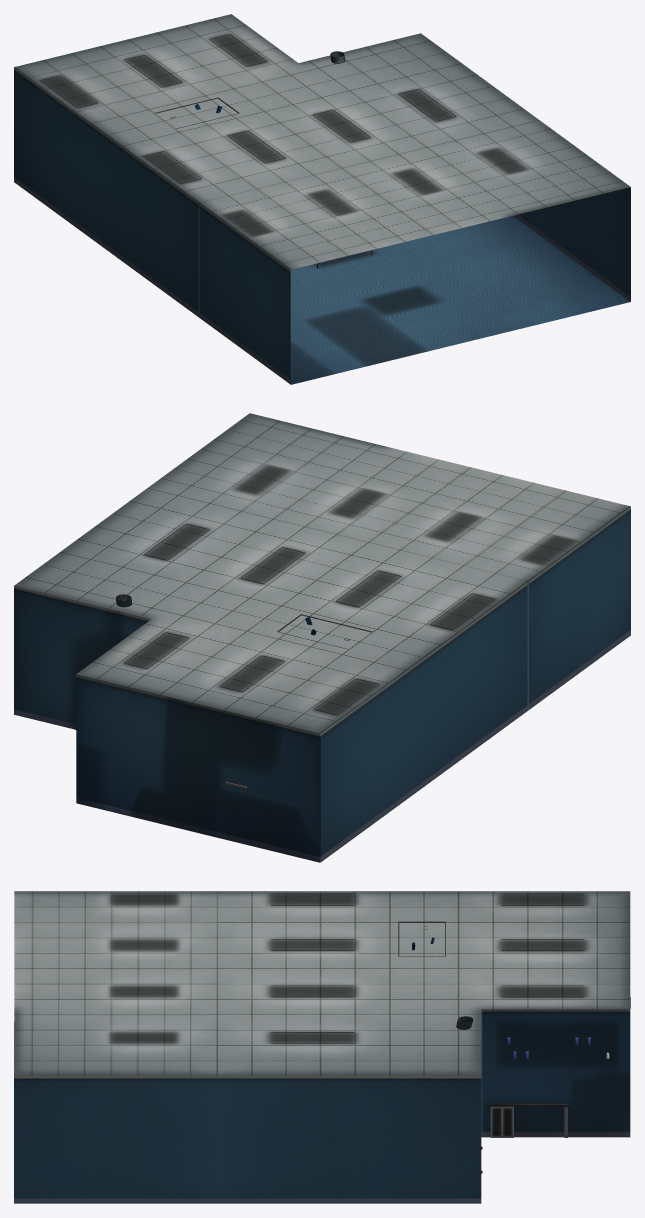
The model's file is WuZhengDiaoChaKe_01.FBX.
3 views of the same model, one above another, from view 1: azimuth 30°, elevation 25°; view 2: azimuth 150°, elevation 25°; view 3: azimuth 270°, elevation 25° (orthographic). The views are drawn at different scales.
Parts seen in each view (by area): view 1: WuZhengDiaoChaKe_01_qiangmian_01, WuZhengDiaoChaKe_01_wujian_04; view 2: WuZhengDiaoChaKe_01_qiangmian_01, WuZhengDiaoChaKe_01_wujian_04; view 3: WuZhengDiaoChaKe_01_qiangmian_01, WuZhengDiaoChaKe_01_wujian_04, WuZhengDiaoChaKe_01_wujian_02, WuZhengDiaoChaKe_01_wujian_03.
Part boxes in pixels (x1,y1,x2,y2): WuZhengDiaoChaKe_01_qiangmian_01: (14, 14, 630, 384); WuZhengDiaoChaKe_01_wujian_04: (40, 34, 456, 268); WuZhengDiaoChaKe_01_qiangmian_01: (14, 413, 630, 862); WuZhengDiaoChaKe_01_wujian_04: (124, 523, 494, 715); WuZhengDiaoChaKe_01_qiangmian_01: (14, 891, 630, 1203); WuZhengDiaoChaKe_01_wujian_04: (271, 893, 609, 1058); WuZhengDiaoChaKe_01_wujian_02: (488, 1091, 569, 1137); WuZhengDiaoChaKe_01_wujian_03: (398, 921, 630, 1173).
Size of the model in its own units: 3774 by 1291 by 5333.
